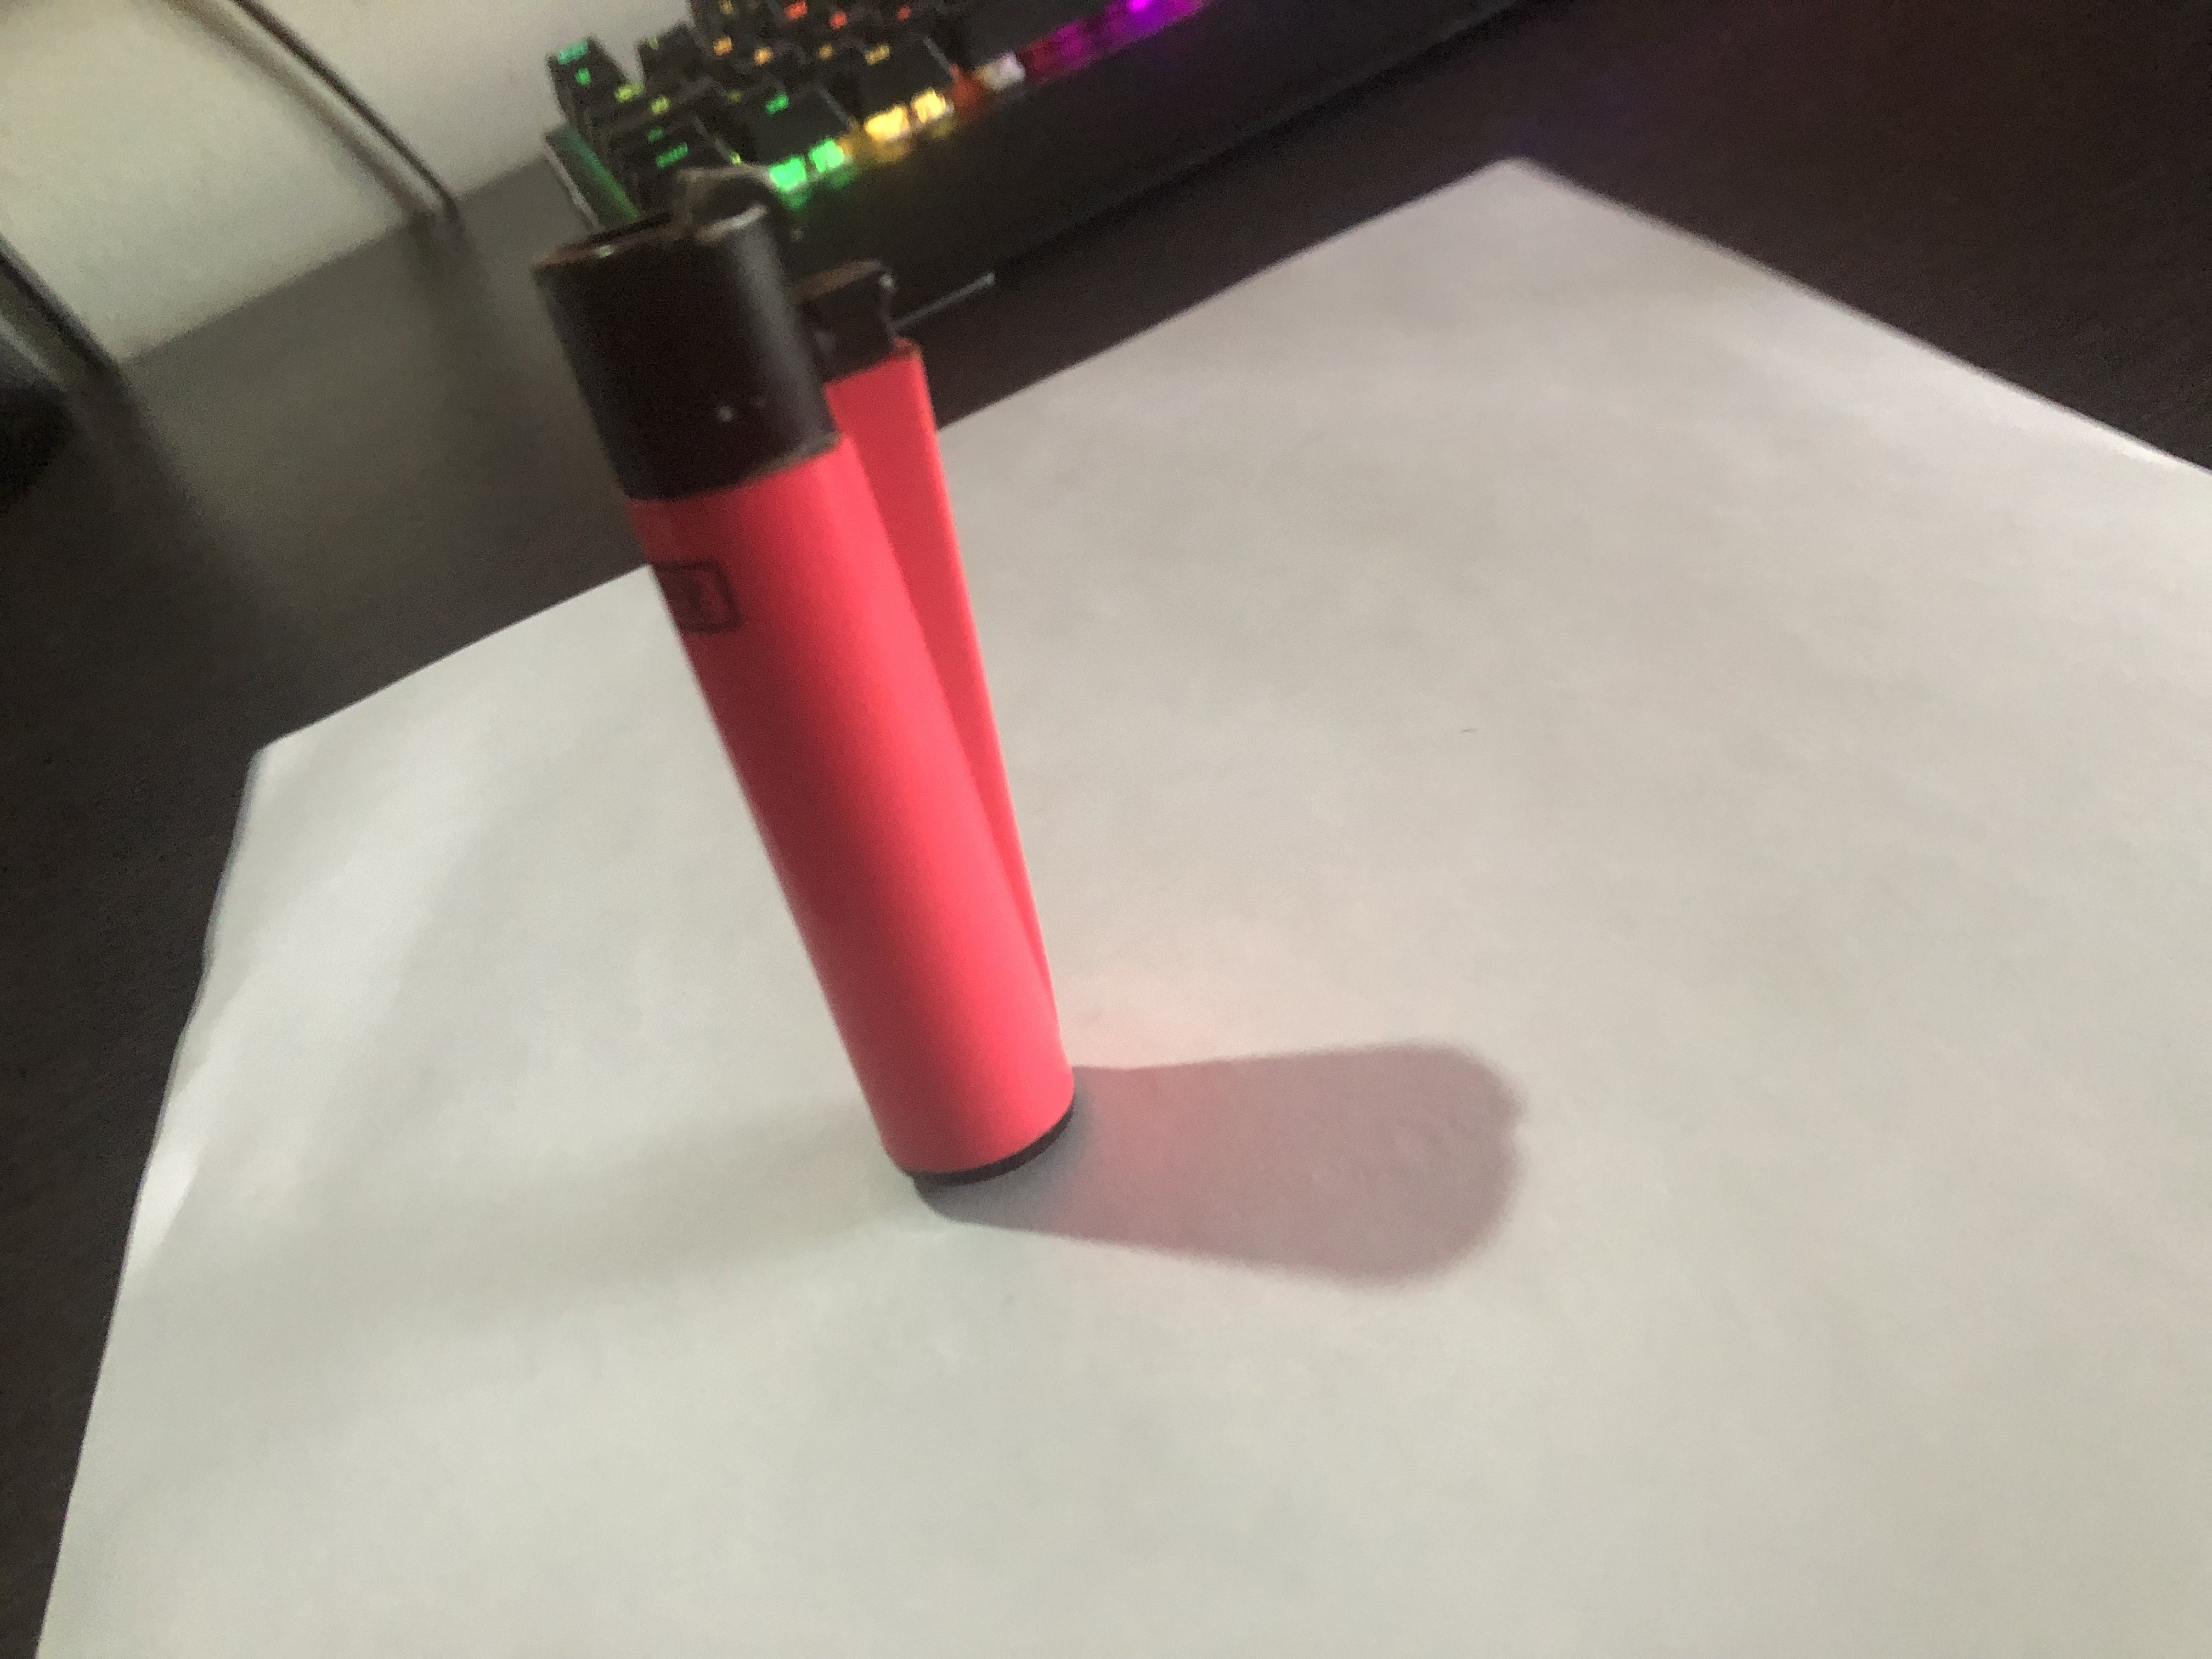Mechero: (535, 218, 1137, 1188)
